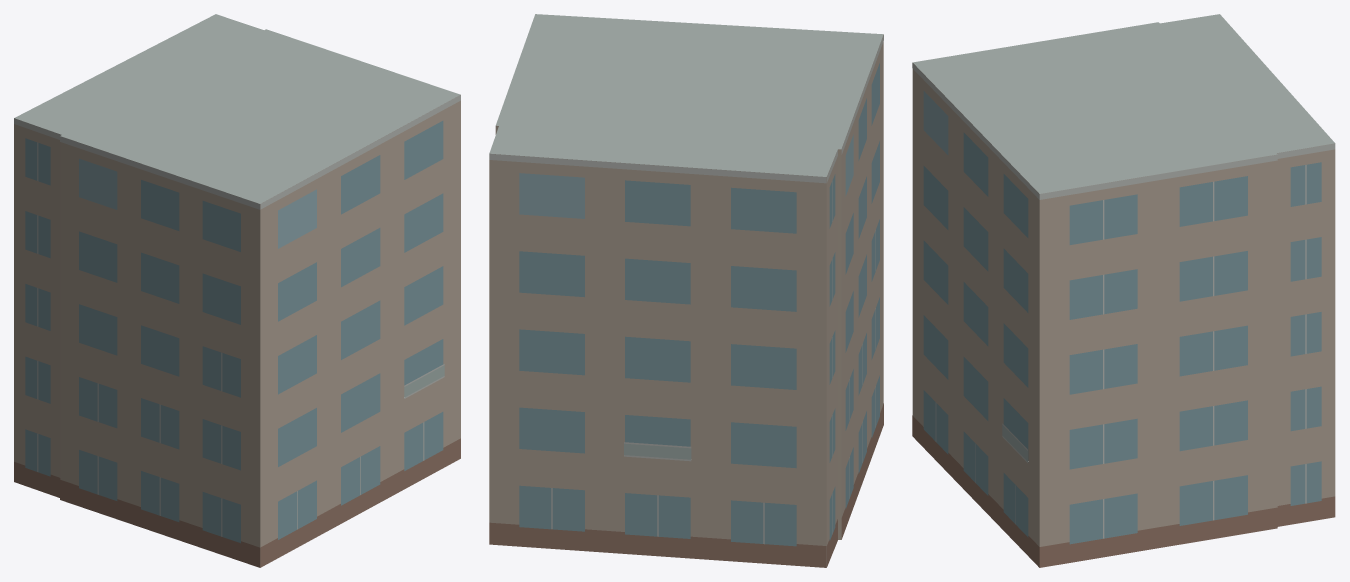
Rendered from survey-upis-32672508.glb.
3 views of the same model, side by side, from view 1: azimuth 30°, elevation 25°; view 2: azimuth 150°, elevation 25°; view 3: azimuth 270°, elevation 25° (orthographic). The views are drawn at different scales.
Parts seen in each view (by area): view 1: survey-upis-32672508.tmp; view 2: survey-upis-32672508.tmp; view 3: survey-upis-32672508.tmp.
Boxes of the visible parts, x1,y1,x2,y2 form: survey-upis-32672508.tmp: [14, 14, 460, 567]; survey-upis-32672508.tmp: [489, 14, 883, 567]; survey-upis-32672508.tmp: [912, 14, 1335, 567].
Size of the model in its own units: 15.71 by 15.2 by 15.59.
